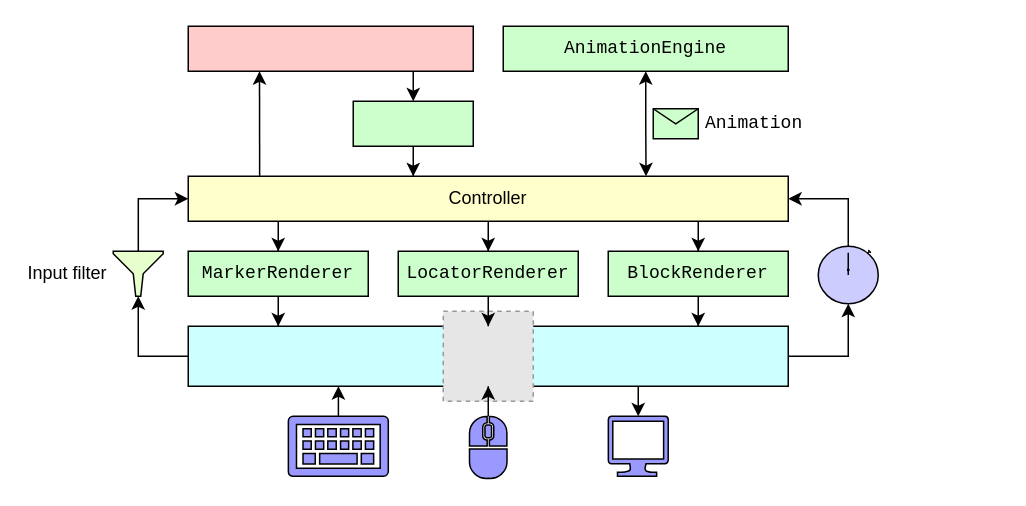
This 1026x506 diagram has some shape labels left out. Grey dashed boxes stand in for pictures. The shapes that lost their labels are listed below. From the top down, each one's centre as x and y in pixels, then its label:
At pixel 330 48: "GameModel".
At pixel 412 123: "BlockView".
At pixel 847 273: "Timer callback".
